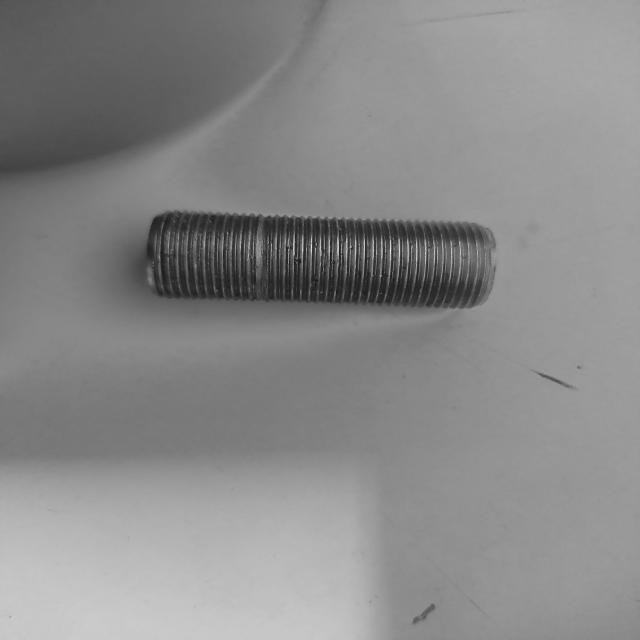Broken: (145, 209, 496, 312)
